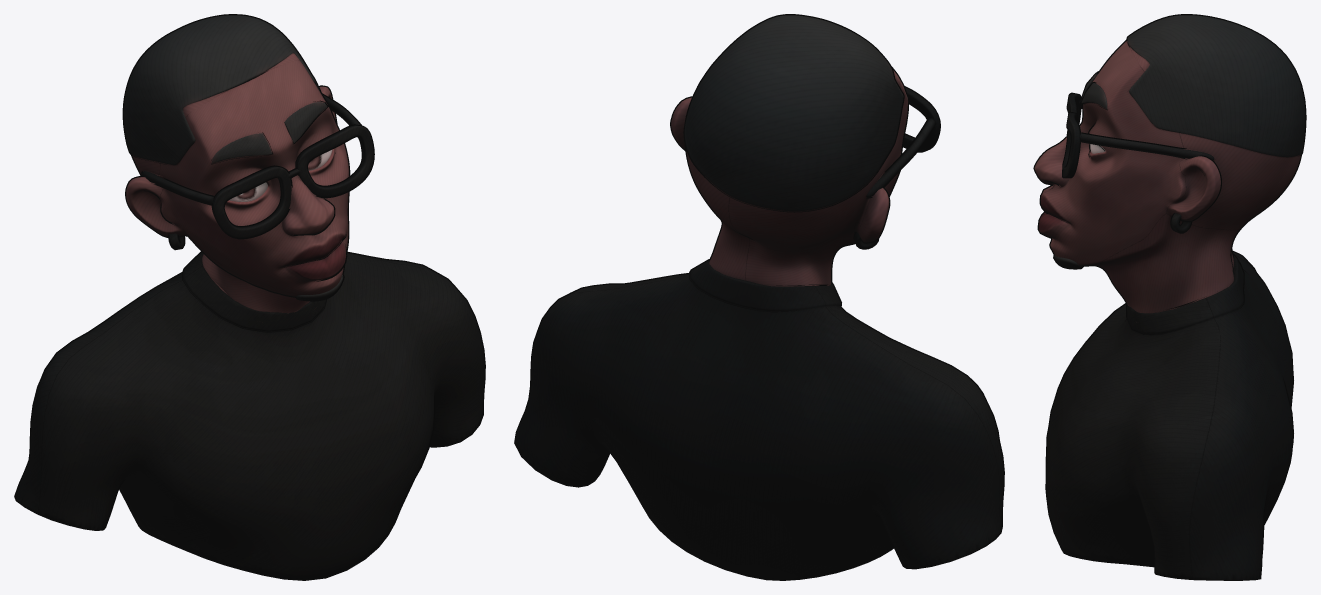
File: SM_PortraitWeb.glb
3 renders of one model, left to right at view 1: azimuth 30°, elevation 25°; view 2: azimuth 150°, elevation 25°; view 3: azimuth 270°, elevation 25°, orthographic. The views are drawn at different scales.
Visible parts, largest first — view 1: outline; view 2: outline; view 3: outline.
Boxes of the visible parts, bbox=[...] form: outline: bbox=[14, 14, 485, 580]; outline: bbox=[514, 14, 1004, 580]; outline: bbox=[1033, 14, 1306, 580].
Size of the model in its own units: 0.5744 by 0.6302 by 0.3031.
2 materials, 1 textured.
